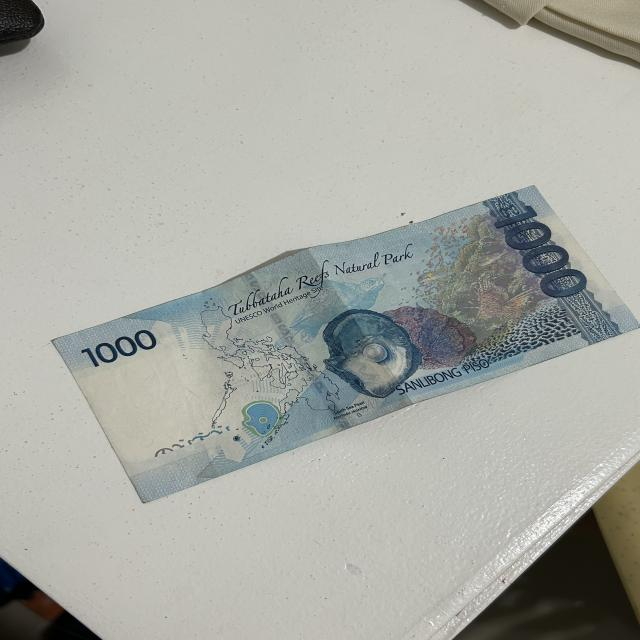1000_pearl: (318, 309, 416, 389)
1000_pearl_watermark: (232, 400, 284, 443)
